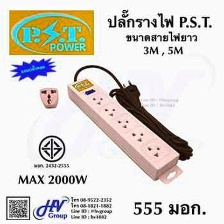three_eye_plug: (64, 74, 181, 186), (34, 84, 60, 110)
